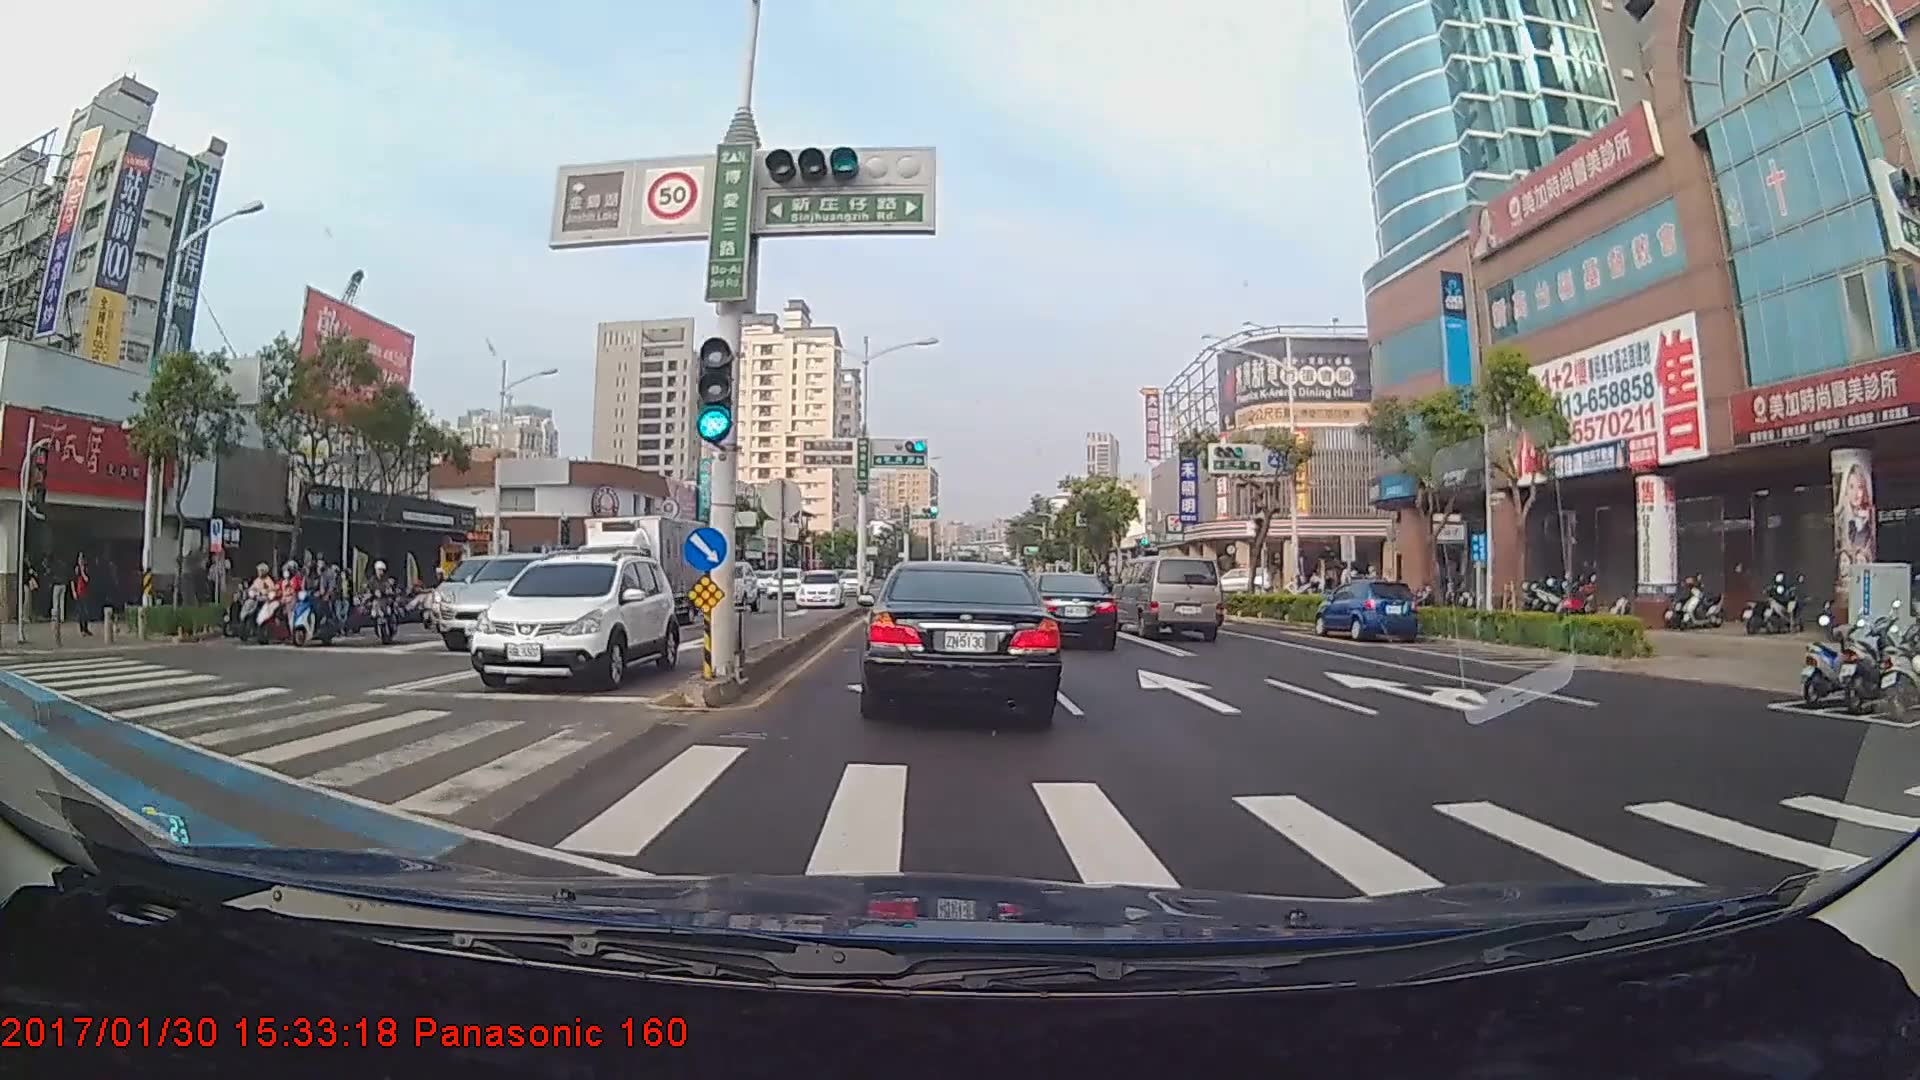pedestrian: (71, 550, 96, 640), (21, 550, 43, 630), (49, 554, 72, 628)
rider: (283, 561, 359, 651), (247, 562, 318, 647), (220, 560, 288, 641), (362, 558, 415, 653)
vehicle: (860, 555, 1059, 722), (472, 554, 676, 689), (562, 512, 706, 647), (438, 551, 578, 653), (1117, 556, 1222, 641), (1015, 570, 1116, 652), (1317, 578, 1419, 642), (694, 559, 758, 610), (790, 574, 840, 612), (766, 572, 800, 603)
